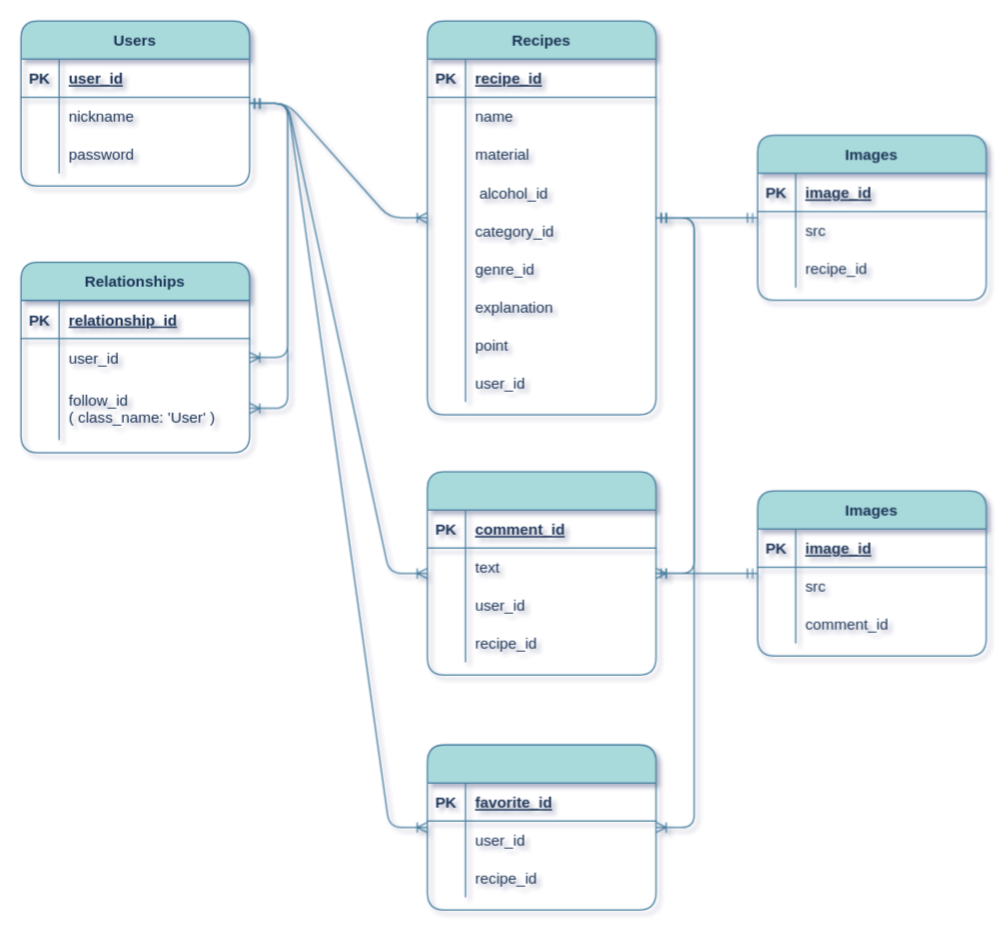
The diagram is 1007 pixels wide and 931 high, and some of its shapes have lost their labels. Here are the shapes that lost their labels. From the top down, the box of each, then its label:
(426, 471, 656, 675): Comments
(426, 744, 656, 910): Favorites
